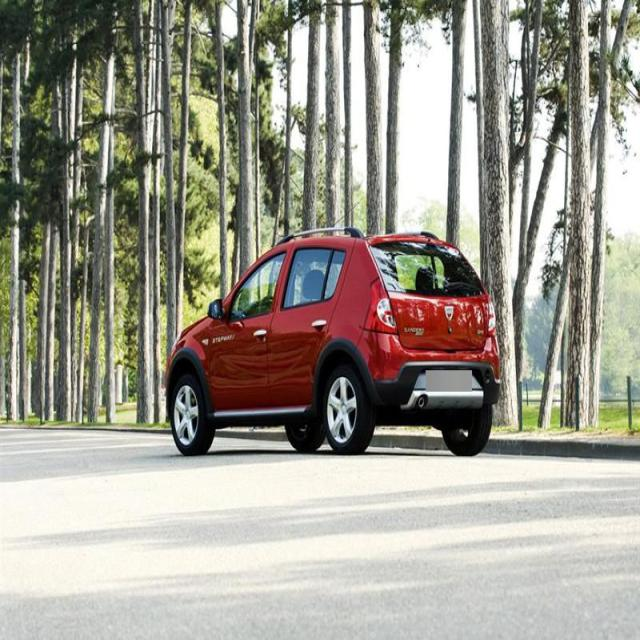back_glass: (368, 241, 486, 299)
back_left_side_light: (362, 273, 398, 335)
back_right_side_light: (485, 294, 497, 338)
door: (270, 239, 355, 405)
front_left_side_door: (206, 241, 292, 411)
front_left_side_mirror: (207, 298, 226, 323)
rear_bumper: (352, 326, 501, 405)
wheel: (322, 366, 369, 452), (170, 374, 212, 454), (441, 404, 493, 454), (284, 412, 325, 451)
